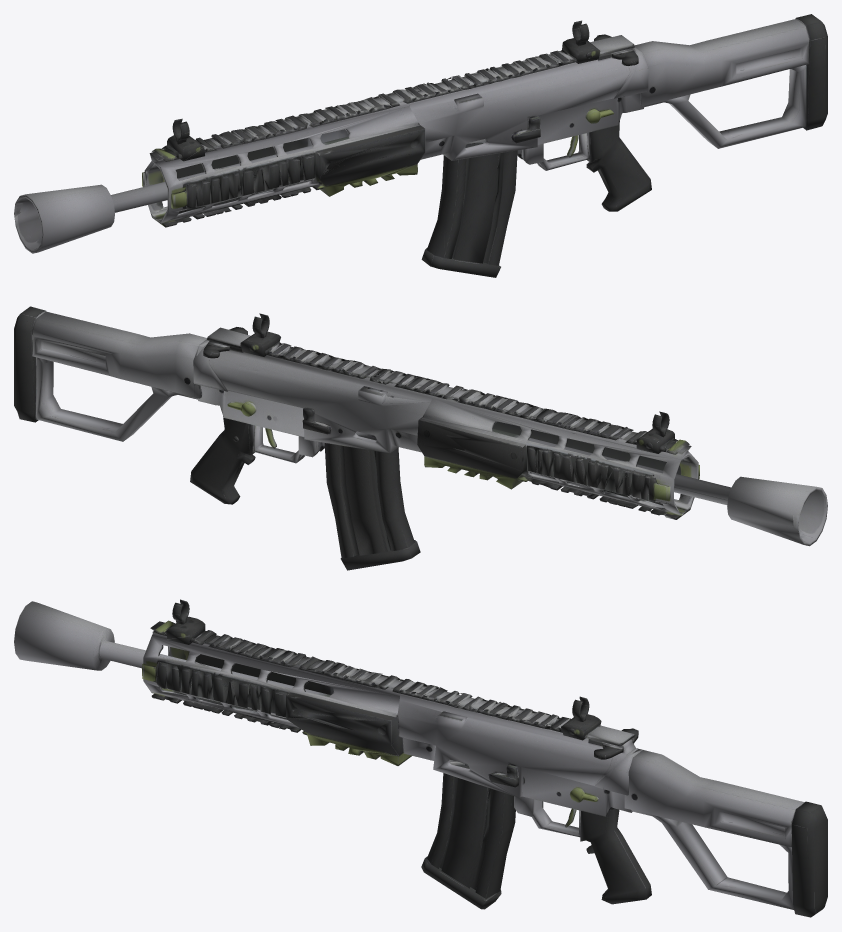
File: ar_sentinel.glb
3 renders of one model, top to bottom at view 1: azimuth 30°, elevation 25°; view 2: azimuth 150°, elevation 25°; view 3: azimuth 330°, elevation 25°, orthographic.
Size of the model in its own units: 0.957 by 0.2632 by 0.0737.
Materials: 1 (1 with a texture image).
